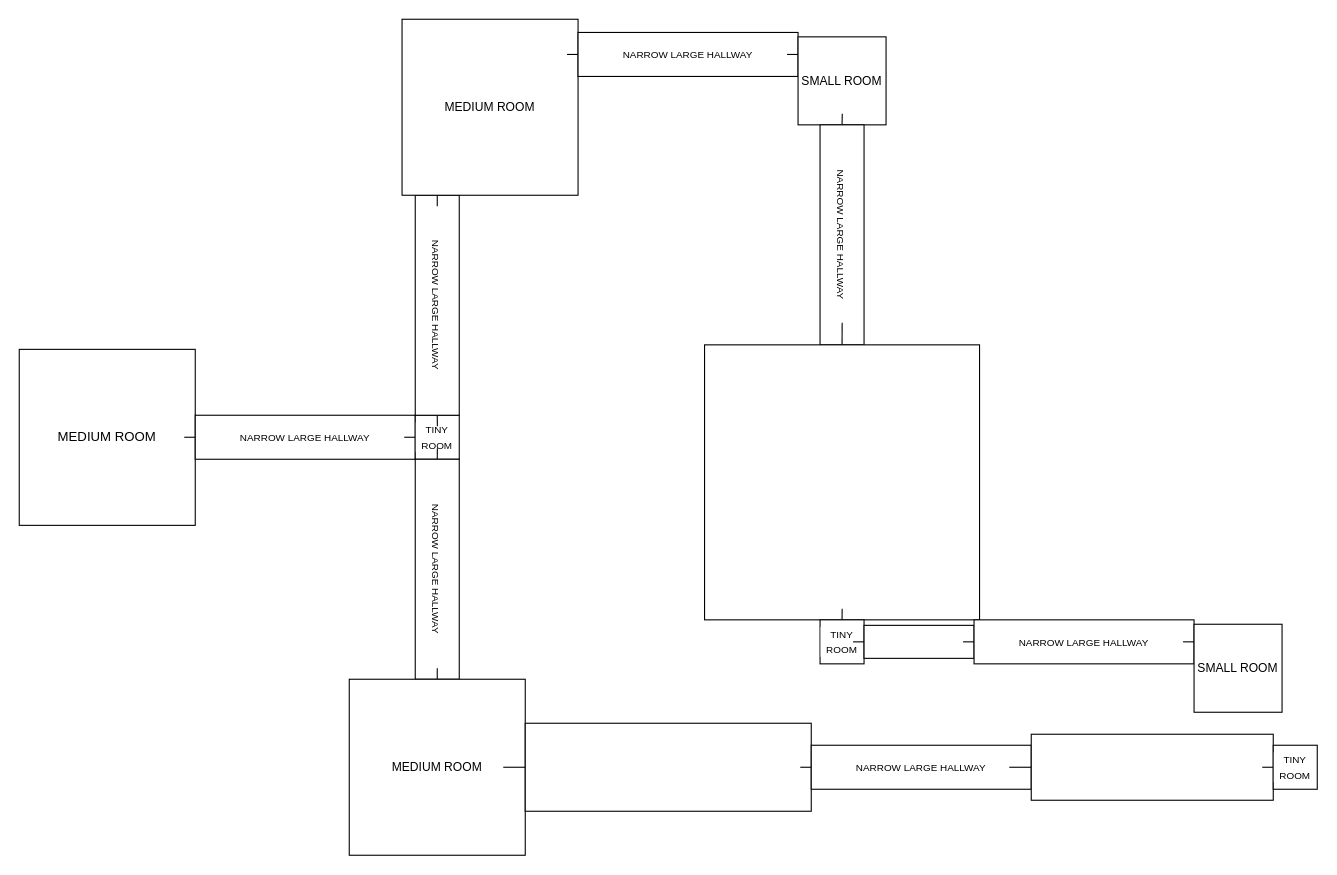
Image size: 1337x875. Some labels were removed from this diagram. The shapes that lost their labels are listed below. From the top down, each one's centre as x and y in pixels, then its label:
At [841,482]: "LARGE ROOM".
At [918,641]: "NARROW SMALL HALLWAY".
At [667,766]: "WIDE LARGE HALLWAY".
At [1151,766]: "WIDE SMALL HALLWAY".
